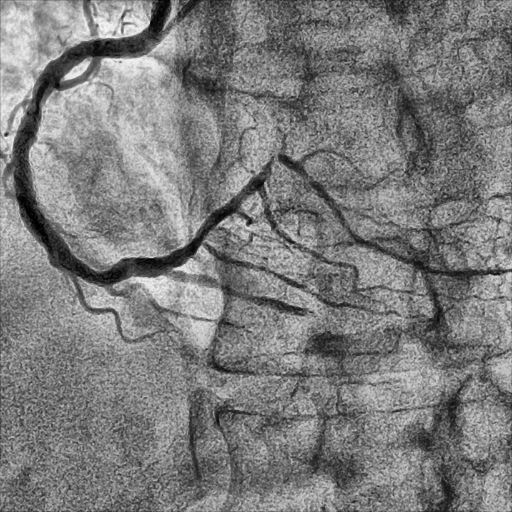pborca: (165, 153, 512, 278)
pda: (161, 269, 334, 323)
rca: (13, 27, 172, 286)
